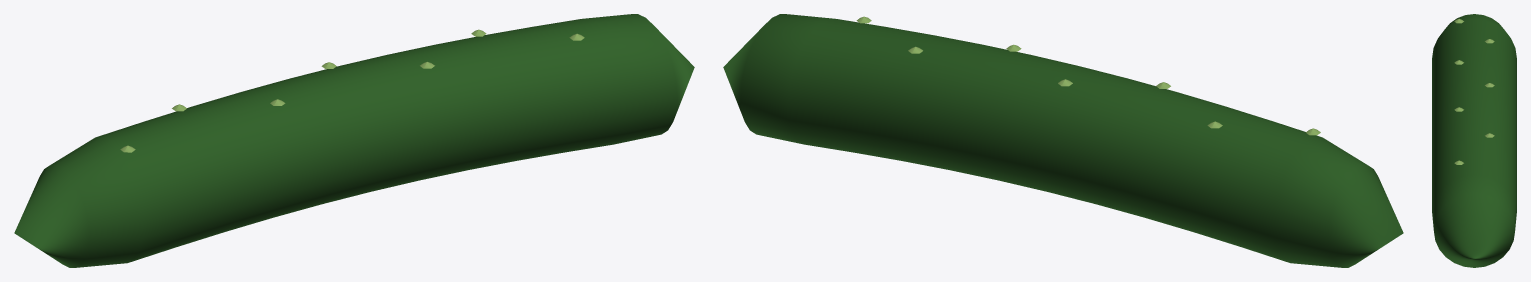
File: cucumber.glb
3 views of the same model, side by side, from view 1: azimuth 30°, elevation 25°; view 2: azimuth 150°, elevation 25°; view 3: azimuth 270°, elevation 25° (orthographic). The views are drawn at different scales.
Parts seen in each view (by area): view 1: package_mesh; view 2: package_mesh; view 3: package_mesh.
Boxes of the visible parts, left/top/right/bottom form: package_mesh: left=14, top=14, right=694, bottom=267; package_mesh: left=723, top=14, right=1403, bottom=267; package_mesh: left=1432, top=14, right=1516, bottom=267.
Bounding box in the file's own units: 0.64 × 0.1209 × 0.1057.
